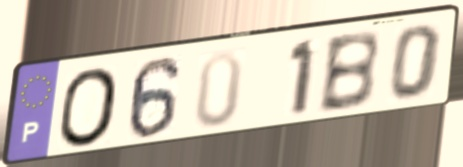0: (387, 22, 444, 104), (191, 48, 246, 131)
1: (286, 38, 317, 119)
6: (127, 55, 183, 142)
B: (315, 28, 382, 117)
O: (57, 65, 122, 150)
